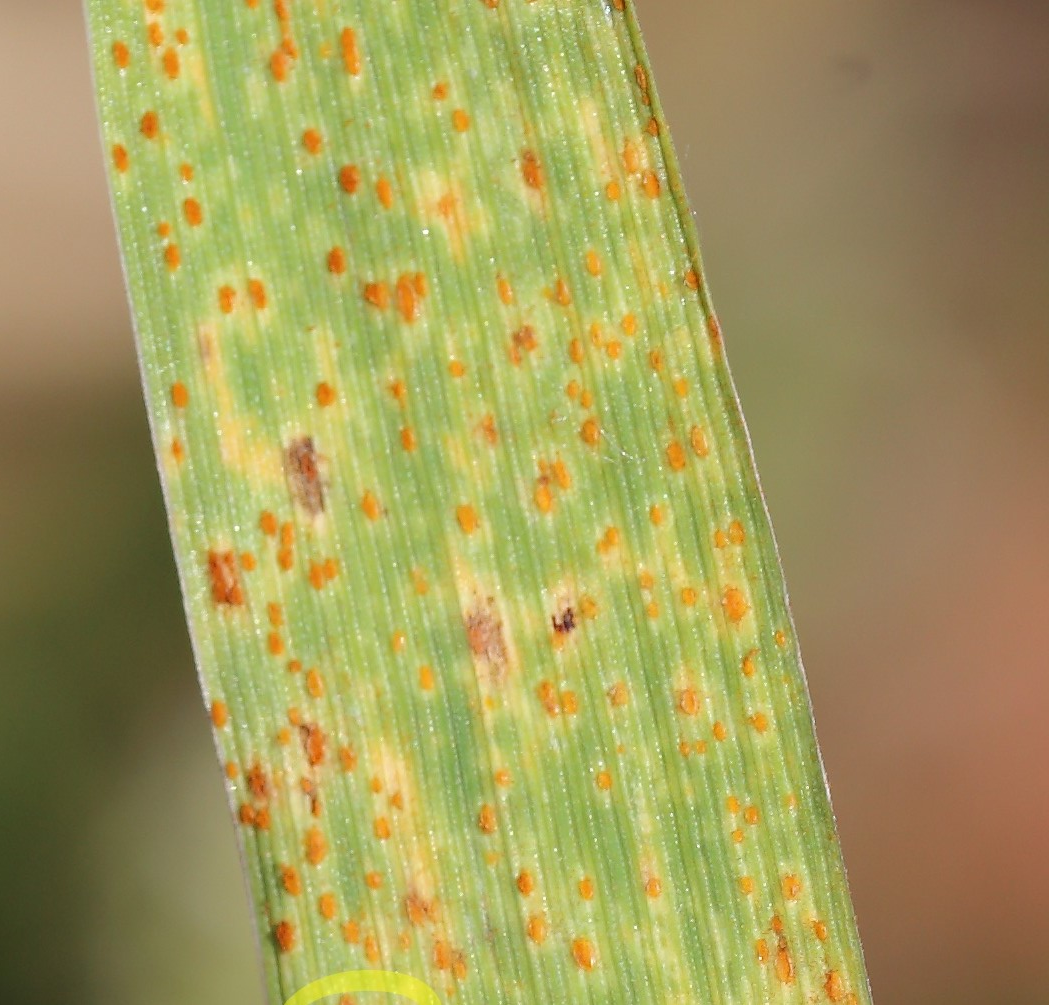Leaf Rust: (189, 125, 874, 963)
